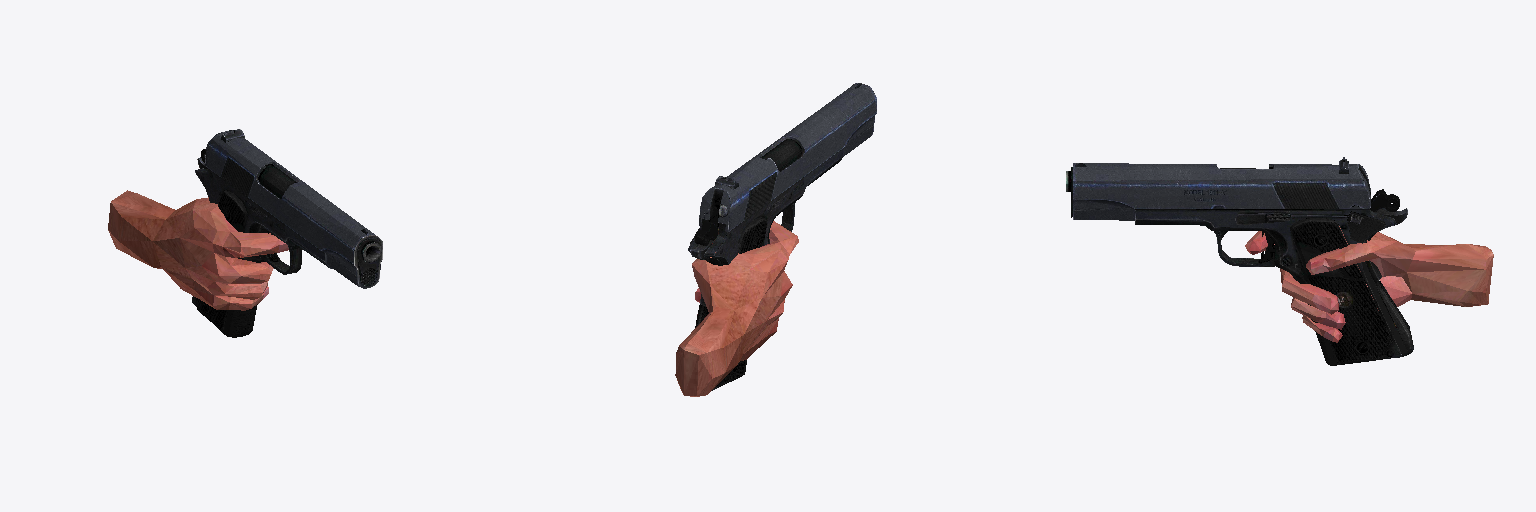
3 renders of one model, left to right at view 1: azimuth 30°, elevation 25°; view 2: azimuth 150°, elevation 25°; view 3: azimuth 270°, elevation 25°, orthographic.
Parts seen in each view (by area): view 1: ZBrushPolyMesh3D, Slide, Mesh_0008; view 2: ZBrushPolyMesh3D, Slide, Mesh_0008; view 3: Mesh_0008, Slide, ZBrushPolyMesh3D.
Boxes of the visible parts, x1=… form: ZBrushPolyMesh3D: x1=108, y1=190, x2=288, y2=310; Slide: x1=205, y1=129, x2=382, y2=288; Mesh_0008: x1=192, y1=157, x2=381, y2=337; ZBrushPolyMesh3D: x1=675, y1=221, x2=798, y2=396; Slide: x1=699, y1=83, x2=876, y2=231; Mesh_0008: x1=688, y1=139, x2=843, y2=390; Mesh_0008: x1=1066, y1=168, x2=1413, y2=365; Slide: x1=1071, y1=157, x2=1370, y2=220; ZBrushPolyMesh3D: x1=1245, y1=226, x2=1493, y2=342.
Bounding box in the file's own units: 0.8857 × 1.78 × 3.46.
4 materials, 3 textured.